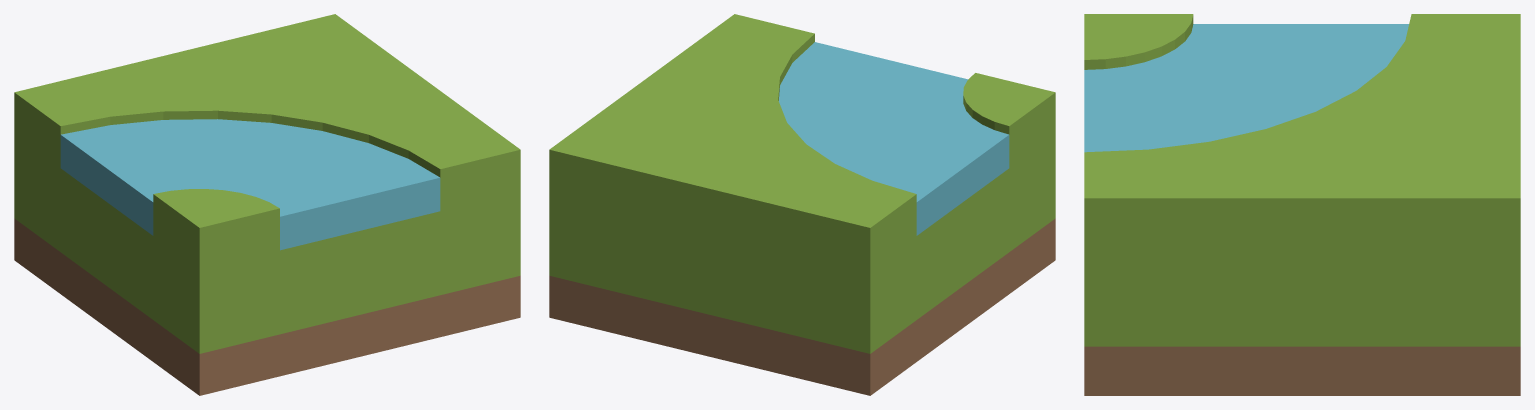
Rendered from river-corner-high.obj.
3 views of the same model, side by side, from view 1: azimuth 30°, elevation 25°; view 2: azimuth 150°, elevation 25°; view 3: azimuth 270°, elevation 25° (orthographic). The views are drawn at different scales.
Parts seen in each view (by area): view 1: river-corner-high_Cube.562; view 2: river-corner-high_Cube.562; view 3: river-corner-high_Cube.562.
Part boxes in pixels (x1,y1,x2,y2): river-corner-high_Cube.562: [14, 14, 520, 395]; river-corner-high_Cube.562: [549, 14, 1055, 395]; river-corner-high_Cube.562: [1084, 14, 1520, 395].
Bounding box in the file's own units: 8 × 4 × 8.
Materials: 1 (1 with a texture image).
